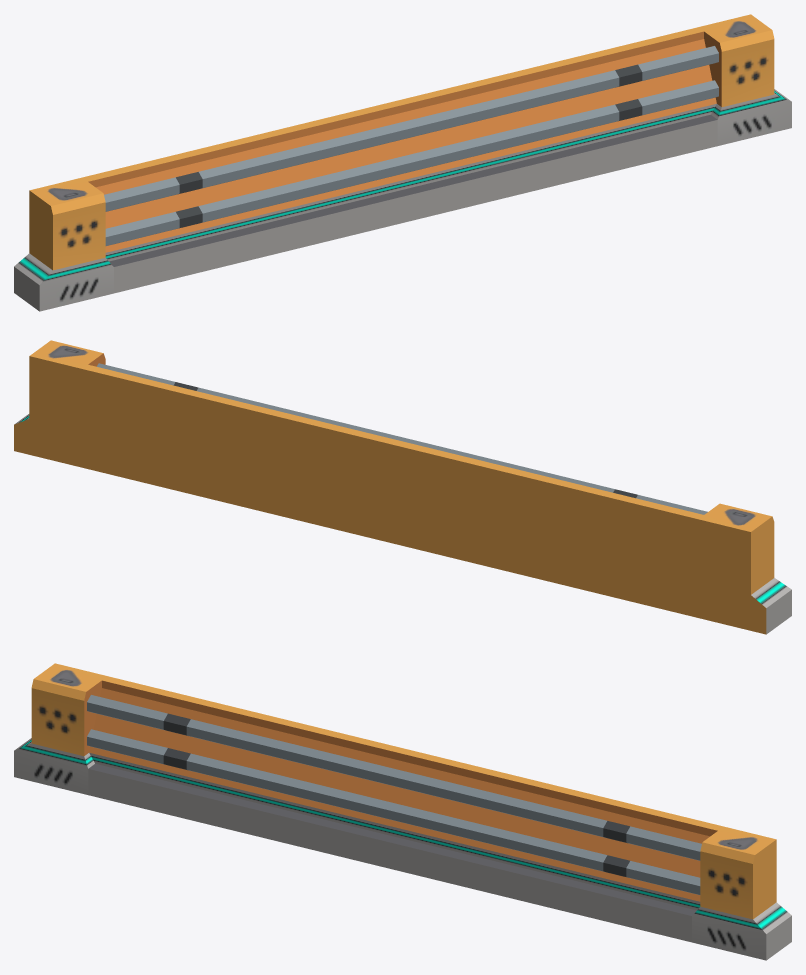
File: cyber_SM_Bld_Floor_Trim_02.gltf
3 renders of one model, top to bottom at view 1: azimuth 30°, elevation 25°; view 2: azimuth 150°, elevation 25°; view 3: azimuth 330°, elevation 25°, orthographic.
Visible parts, largest first — view 1: SM_Bld_Floor_Trim_02; view 2: SM_Bld_Floor_Trim_02; view 3: SM_Bld_Floor_Trim_02.
Part boxes in pixels (x1,y1,x2,y2): SM_Bld_Floor_Trim_02: (14, 14, 791, 311); SM_Bld_Floor_Trim_02: (14, 340, 791, 634); SM_Bld_Floor_Trim_02: (14, 663, 791, 960).
Bounding box in the file's own units: 2.5 × 0.3135 × 0.1475.
1 material, 1 textured.
